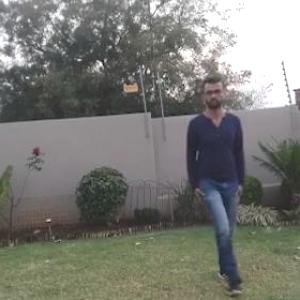follow: (159, 65, 240, 299)
